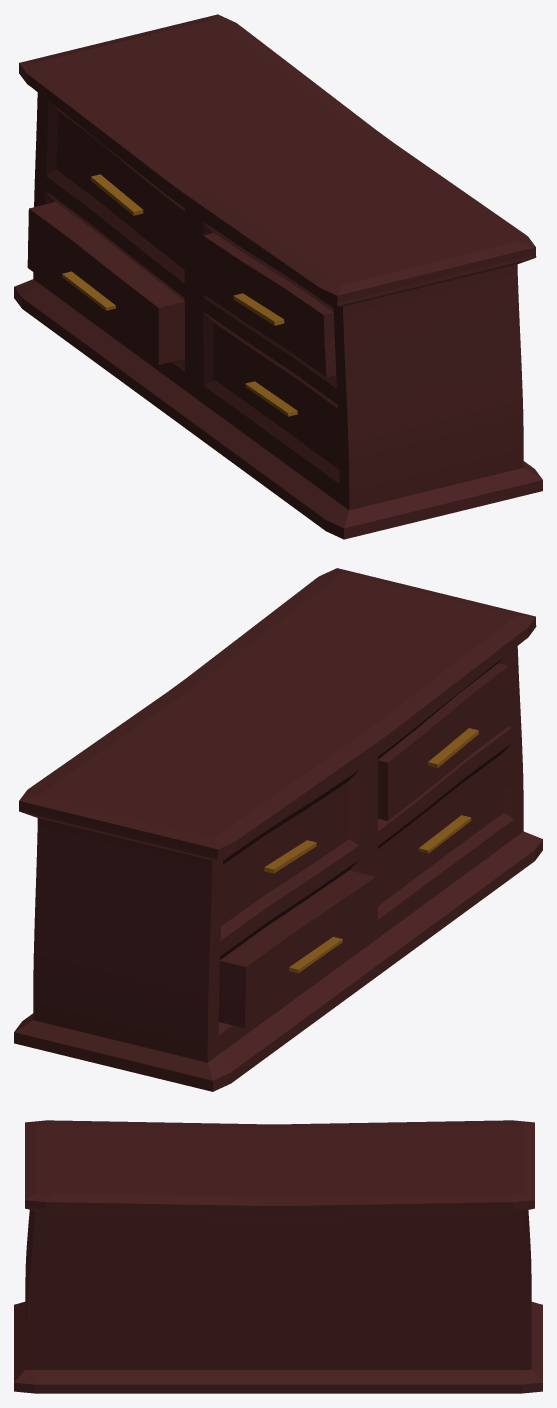
Rendered from gKommode2.fbx.
The picture shows the model from 3 angles, top to bottom: view 1: azimuth 30°, elevation 25°; view 2: azimuth 150°, elevation 25°; view 3: azimuth 270°, elevation 25°; orthographic projection. The views are drawn at different scales.
Visible parts, largest first — view 1: Schrank2; view 2: Schrank2; view 3: Schrank2.
Boxes of the visible parts, x1,y1,x2,y2 form: Schrank2: (14, 14, 542, 539); Schrank2: (14, 568, 542, 1091); Schrank2: (14, 1120, 542, 1393).
Bounding box in the file's own units: 163 × 169 × 419.
